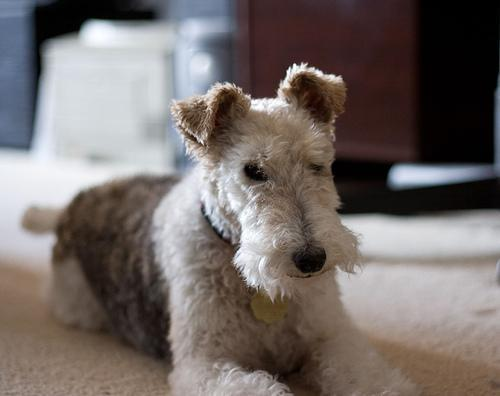wire-haired_fox_terrier: (19, 62, 423, 395)
